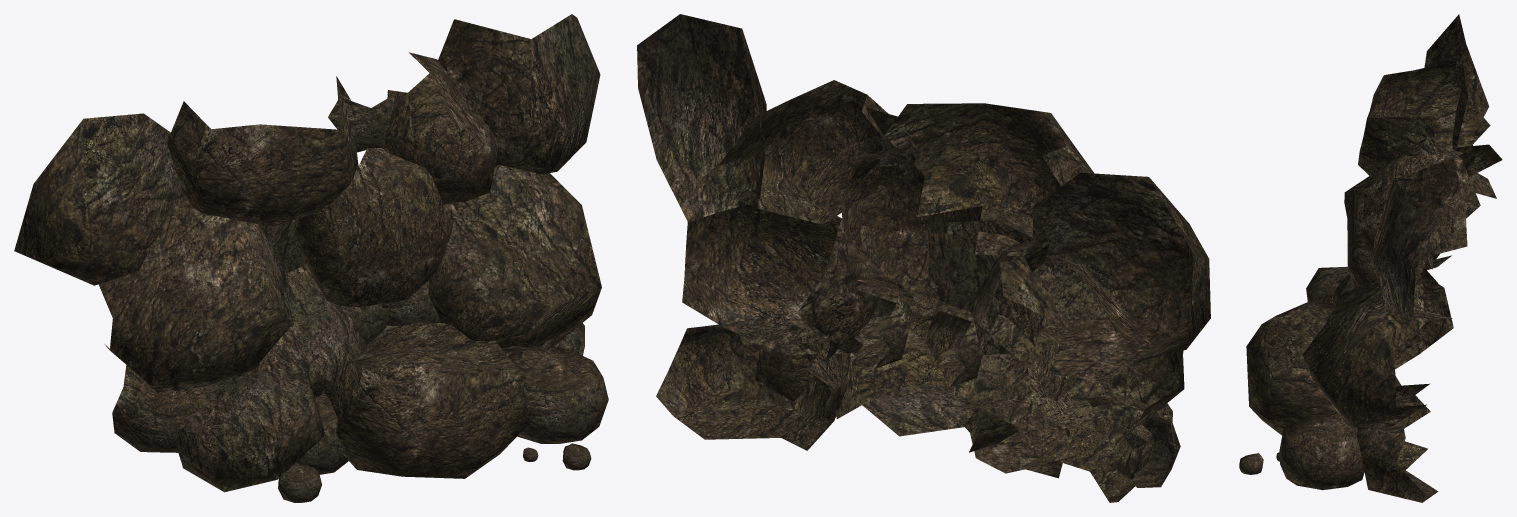
File: dungeon_cave_in.dae
The picture shows the model from 3 angles, left to right: view 1: azimuth 30°, elevation 25°; view 2: azimuth 150°, elevation 25°; view 3: azimuth 270°, elevation 25°; orthographic projection. The views are drawn at different scales.
Parts seen in each view (by area): view 1: polySurface44; view 2: polySurface44; view 3: polySurface44.
Boxes of the visible parts, bbox=[...] form: polySurface44: bbox=[14, 14, 608, 502]; polySurface44: bbox=[637, 14, 1210, 502]; polySurface44: bbox=[1239, 14, 1502, 502].
Size of the model in its own units: 7.41 by 4.77 by 3.61.
